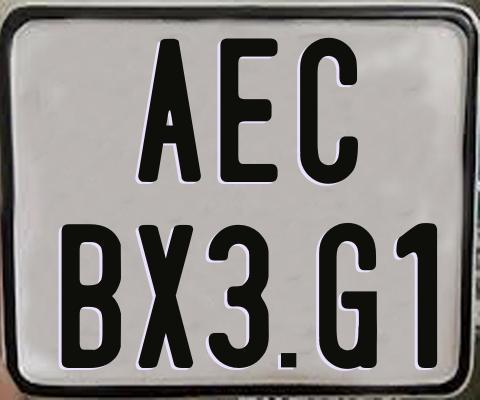1: (395, 222, 437, 368)
3: (209, 222, 269, 367)
A: (136, 39, 200, 184)
B: (60, 223, 120, 371)
C: (300, 37, 364, 186)
E: (219, 38, 279, 183)
G: (319, 223, 378, 369)
X: (138, 225, 193, 373)
